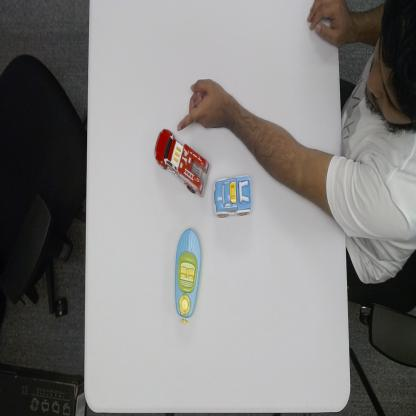Arm: (230, 100, 332, 176)
Boat: (174, 228, 203, 324)
Car: (212, 174, 253, 218)
Firetruck: (154, 125, 212, 200)
Hand: (174, 77, 228, 132), (306, 0, 342, 47)
